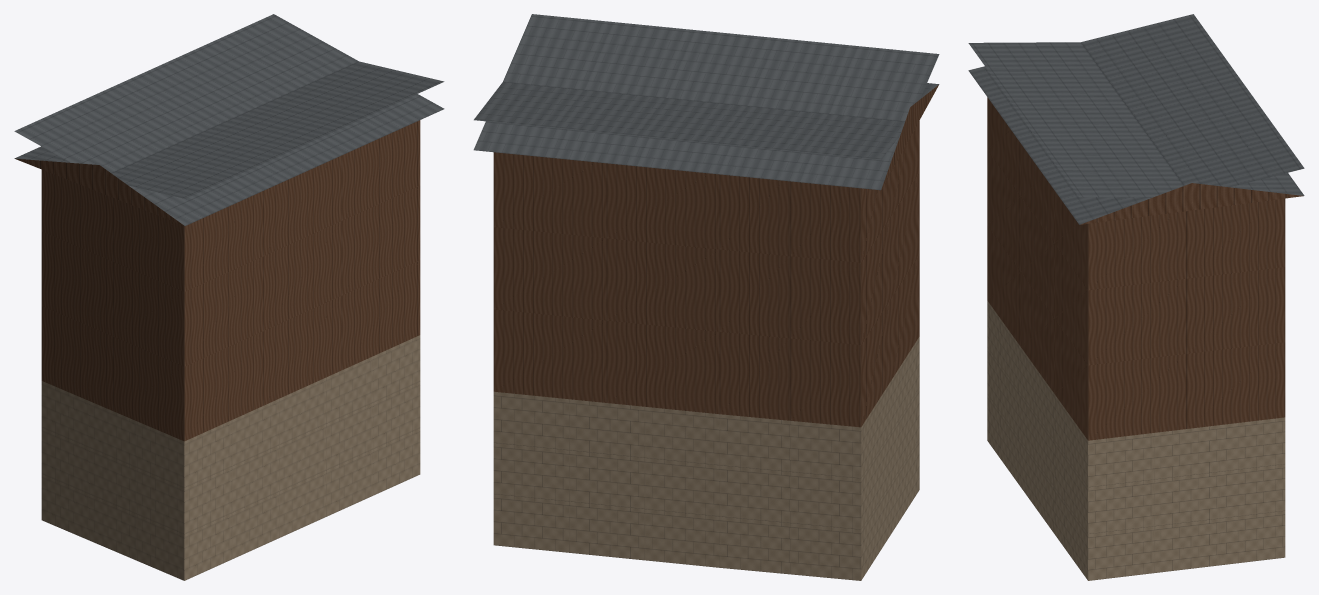
The model's file is bld_c10_19_432.gltf.
3 renders of one model, left to right at view 1: azimuth 30°, elevation 25°; view 2: azimuth 150°, elevation 25°; view 3: azimuth 270°, elevation 25°, orthographic. The views are drawn at different scales.
Parts seen in each view (by area): view 1: bld_c10_19_432; view 2: bld_c10_19_432; view 3: bld_c10_19_432.
Boxes of the visible parts, left/top/right/bottom form: bld_c10_19_432: left=14, top=14, right=444, bottom=580; bld_c10_19_432: left=473, top=14, right=939, bottom=580; bld_c10_19_432: left=968, top=14, right=1304, bottom=580.
Bounding box in the file's own units: 14.3 × 14.3 × 11.09.
4 materials, 4 textured.
